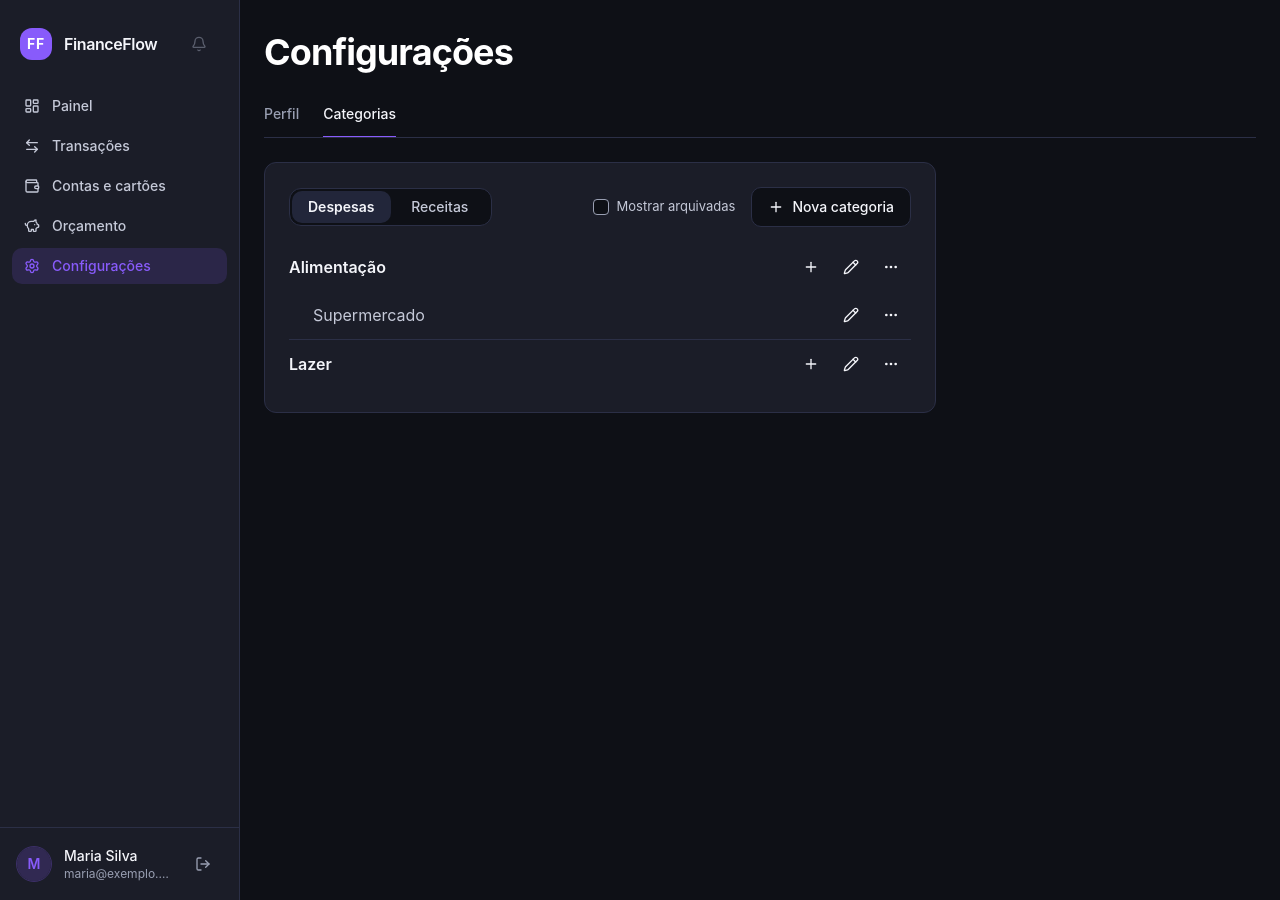
it: configurações: categorias › mostra as arquivadas quando pedido
Step 1. Click the checkbox named "Mostrar arquivadas" → point(601, 207), box [593,199,609,215]
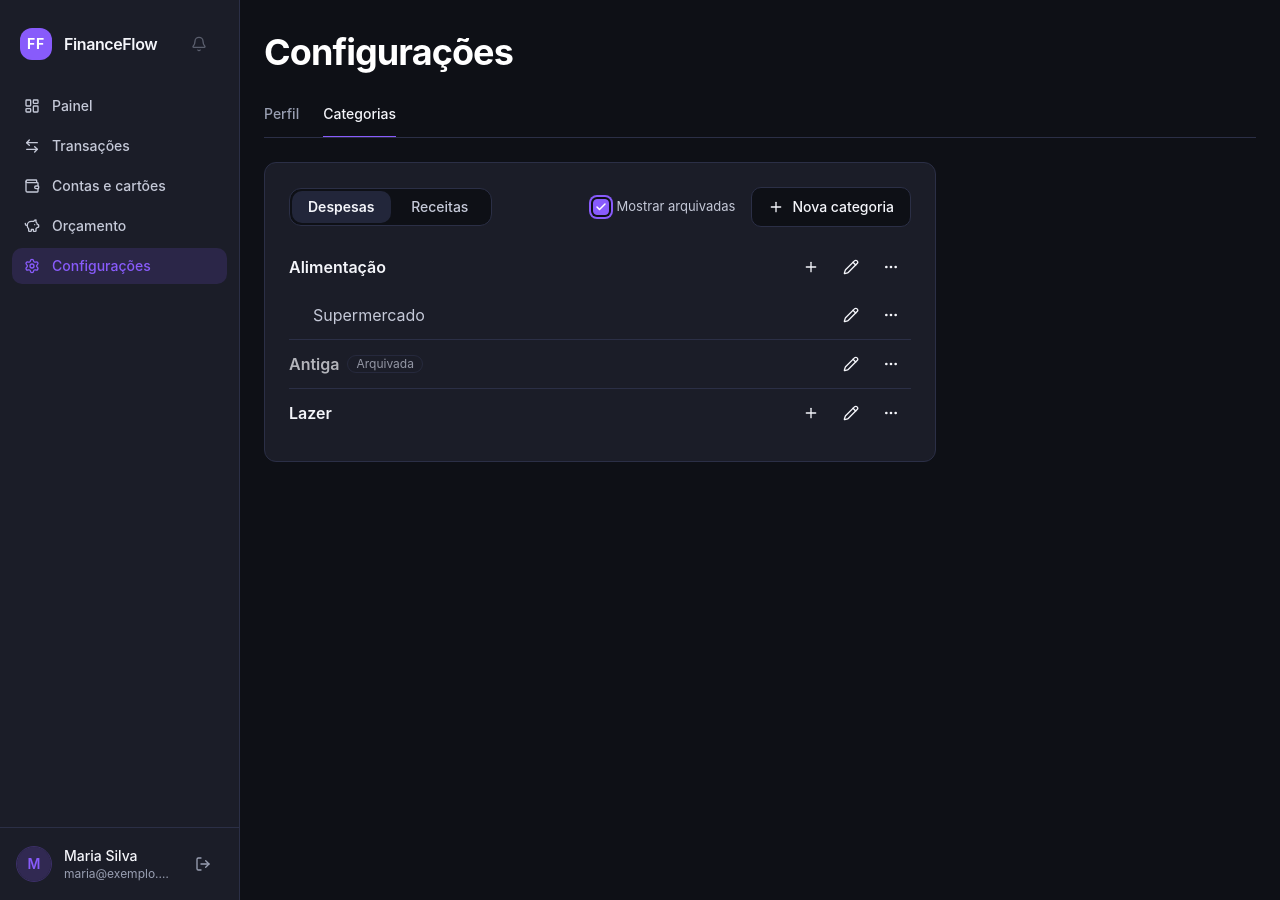
Expected: the text "Antiga" is shown, [289,352,340,376]
Expected: the text "Arquivada" is shown, [348,355,423,373]
Step 2. Click the button named "Mais ações de Antiga" → point(891, 364), box [871,344,911,384]
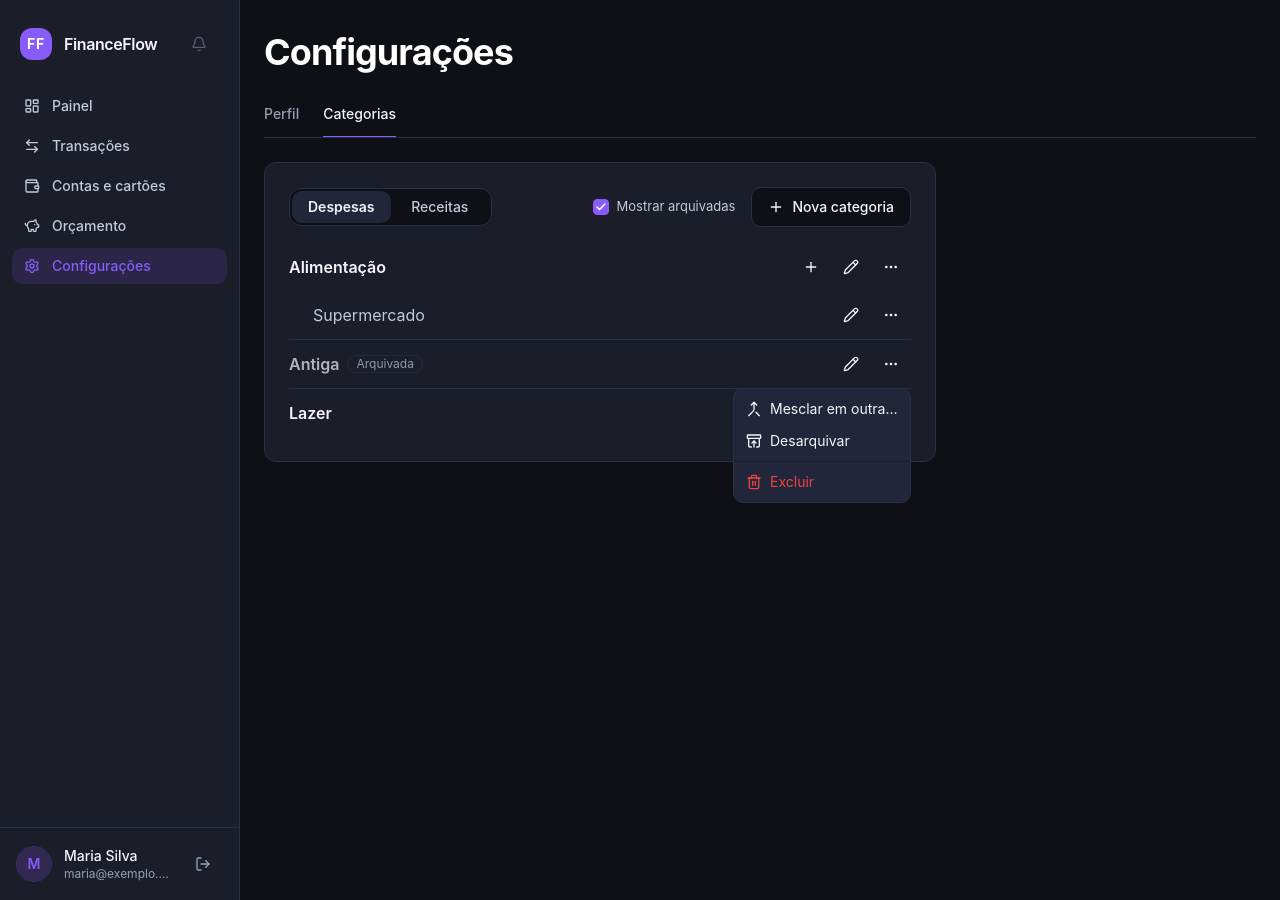
Expected: the menu item "Desarquivar" is shown, [746,432,850,449]
